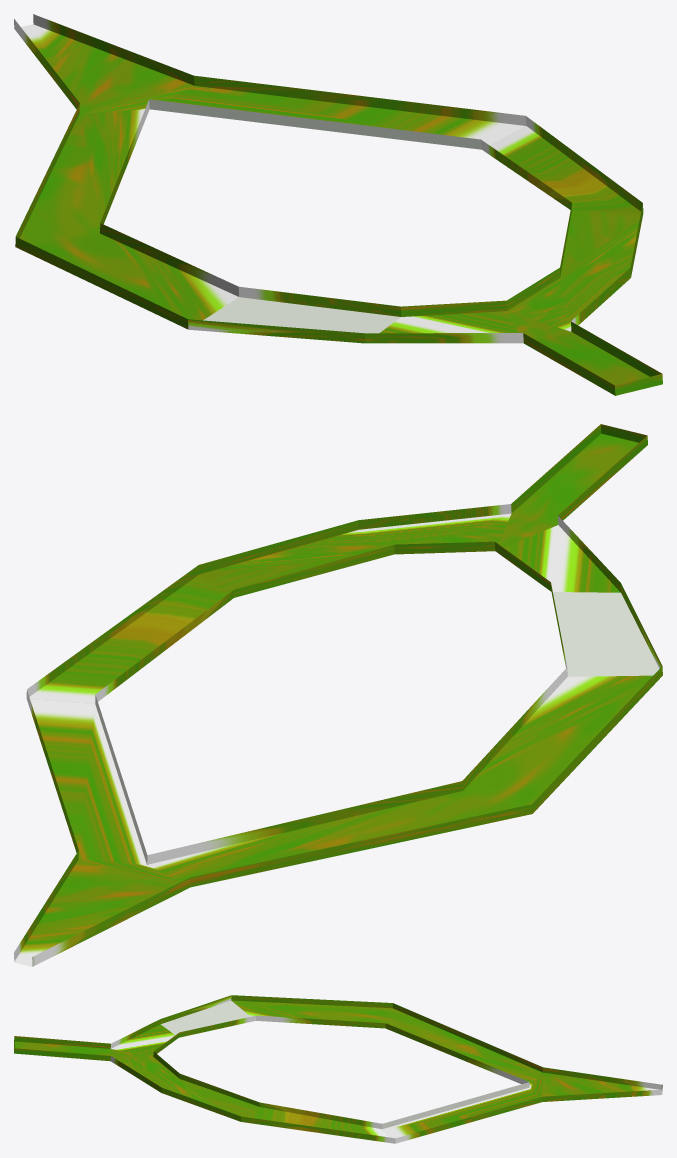
The model's file is Stage_Short_1.1.fbx.
3 views of the same model, one above another, from view 1: azimuth 30°, elevation 25°; view 2: azimuth 150°, elevation 25°; view 3: azimuth 270°, elevation 25° (orthographic). The views are drawn at different scales.
Visible parts, largest first — view 1: 立方体.001; view 2: 立方体.001; view 3: 立方体.001.
Part boxes in pixels (box(x1,y1,x2,y2)): 立方体.001: box(14, 14, 662, 395); 立方体.001: box(14, 424, 662, 966); 立方体.001: box(14, 995, 662, 1143).
Bounding box in the file's own units: 64670 × 11557 × 134065.
Materials: 1 (1 with a texture image).
